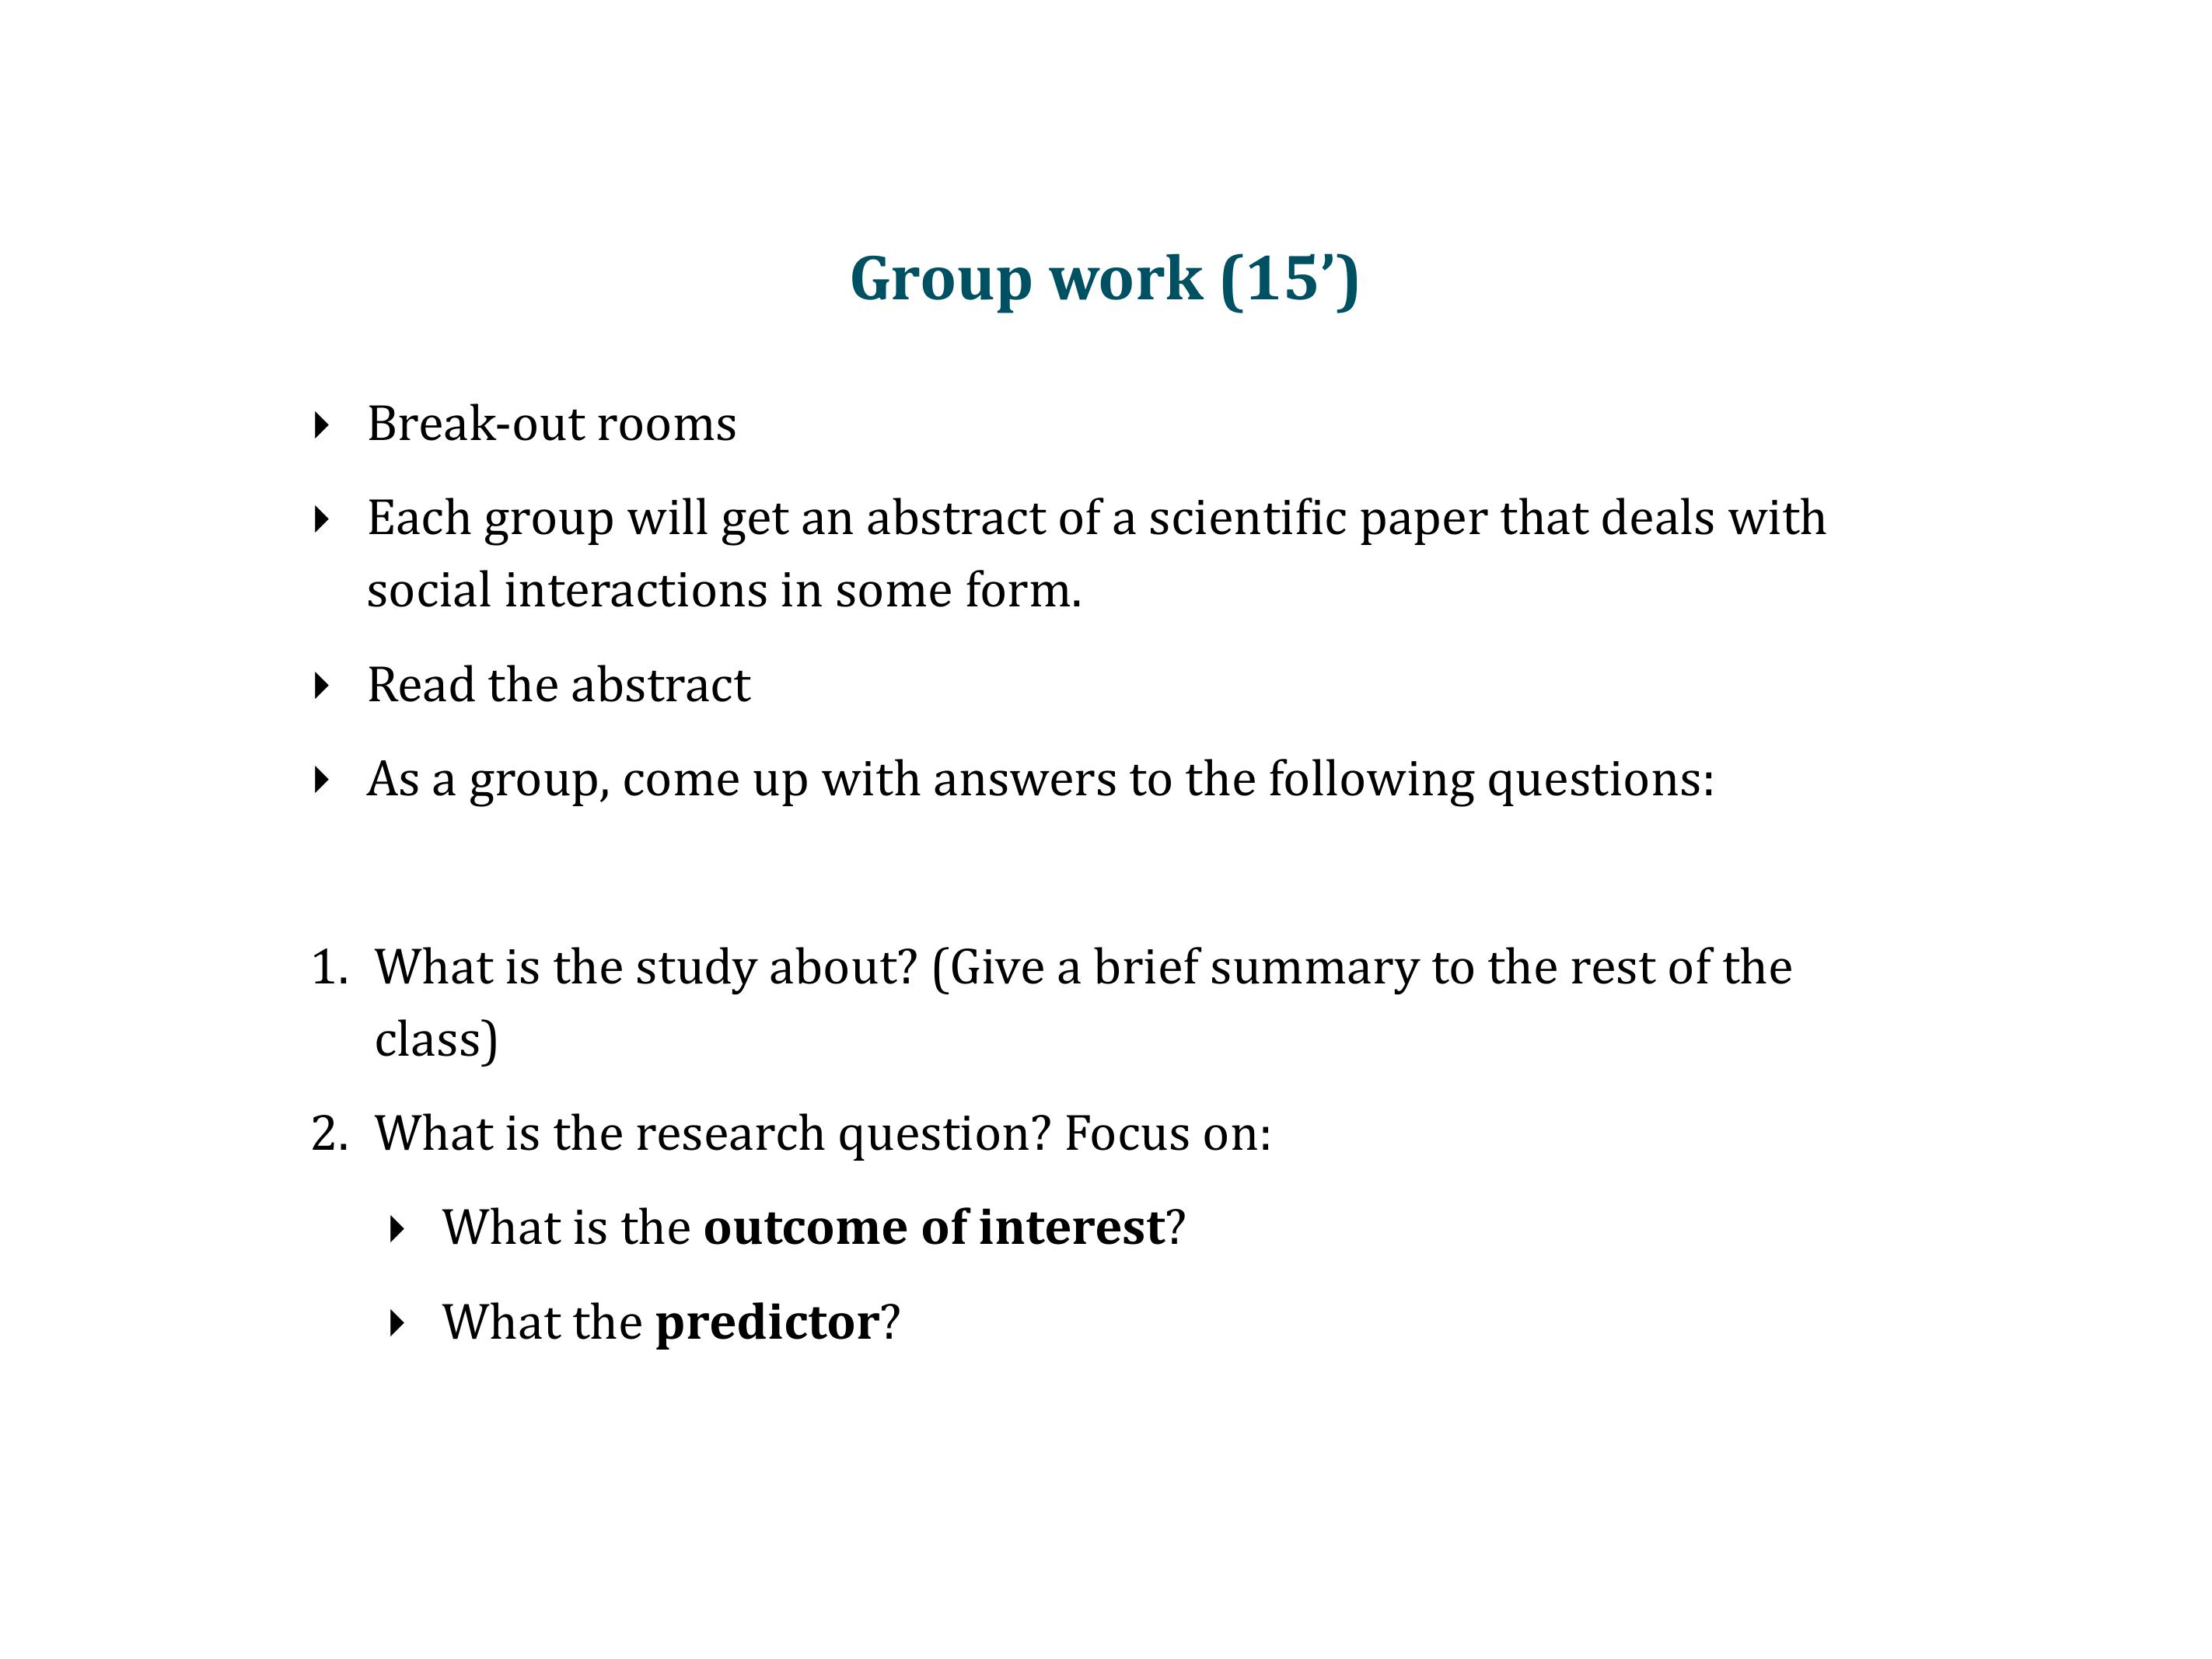Title: (821, 234, 1377, 324)
